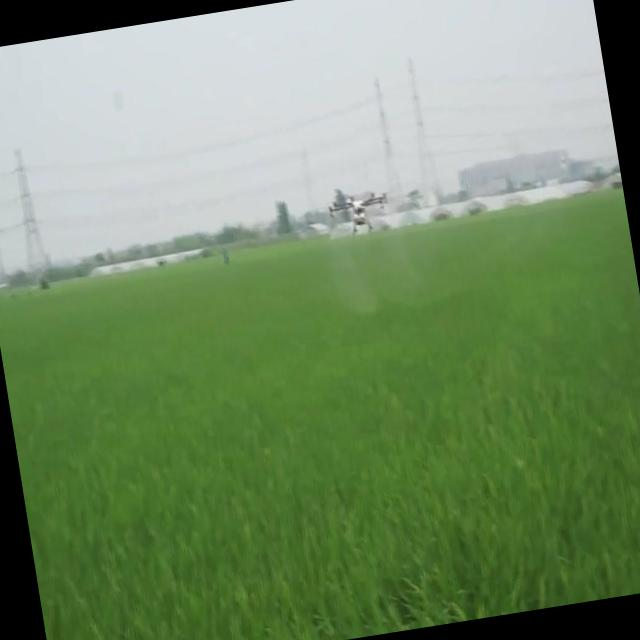drone: (326, 186, 396, 243)
